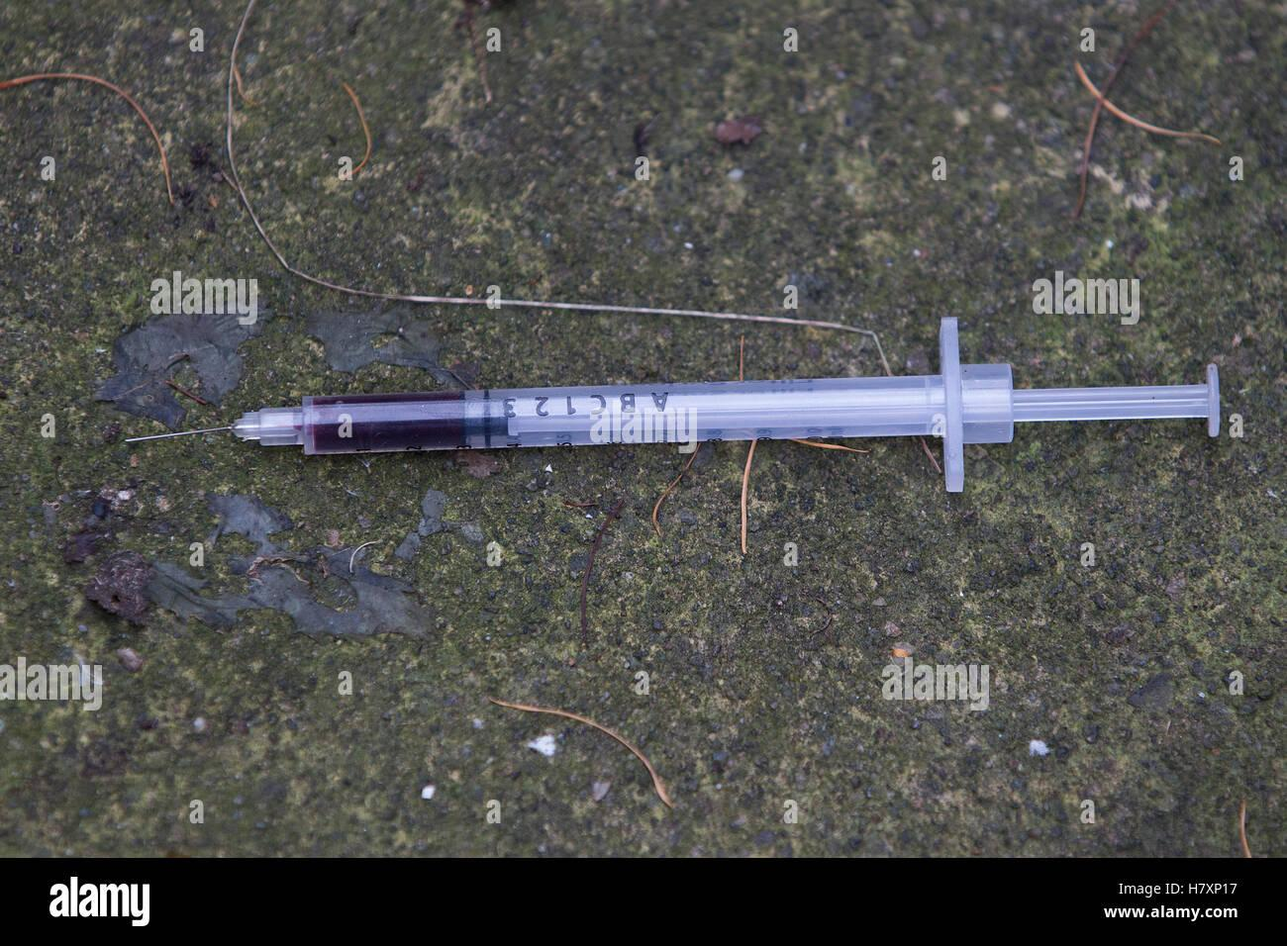Syringe: (231, 318, 1219, 491)
